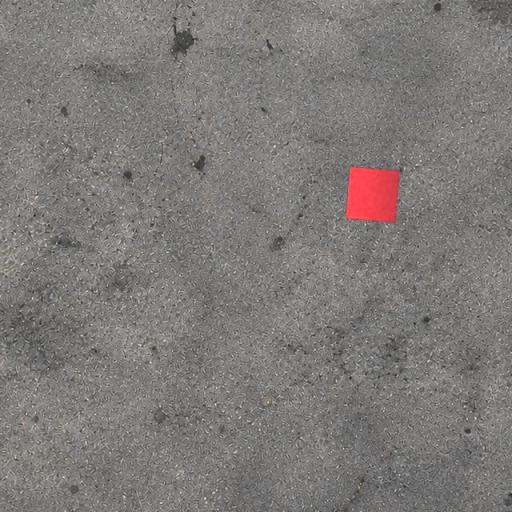RED_SQUARE: (345, 166, 401, 223)
